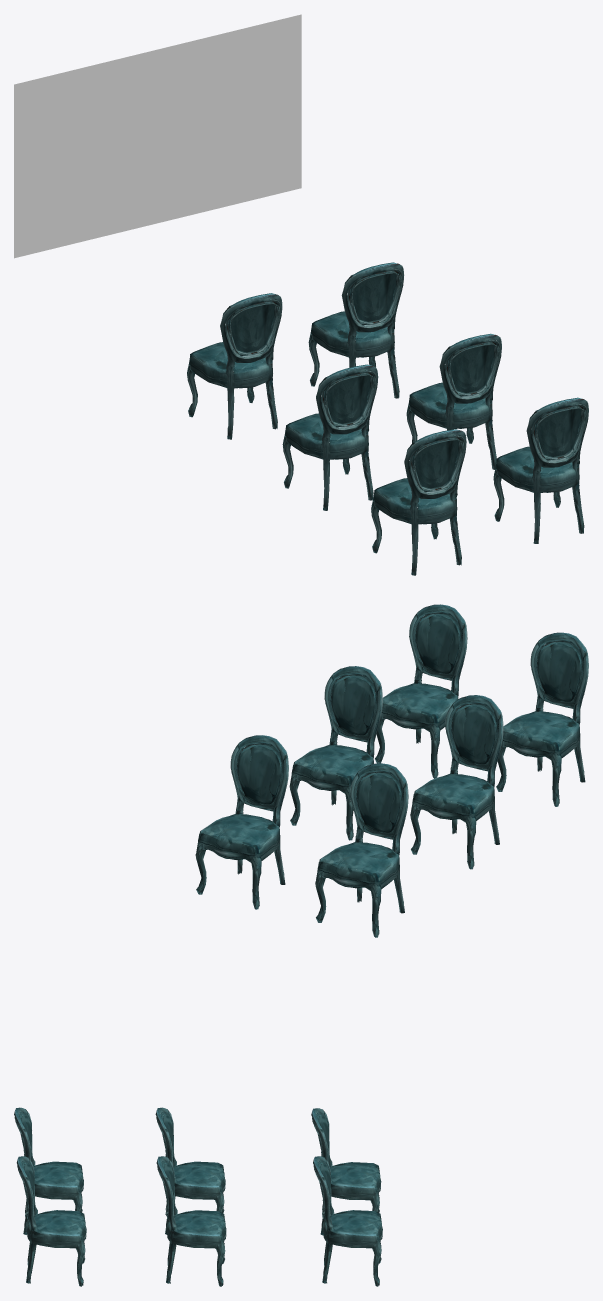
File: teatro.glb
The picture shows the model from 3 angles, top to bottom: view 1: azimuth 30°, elevation 25°; view 2: azimuth 150°, elevation 25°; view 3: azimuth 270°, elevation 25°; orthographic projection. The views are drawn at different scales.
Parts seen in each view (by area): view 1: Plane, silla2, silla1, silla5, silla3, silla6, silla4; view 2: silla6, silla5, silla3, silla2, silla1, silla4; view 3: silla4, silla6, silla1, silla3, silla2, silla5.
Boxes of the visible parts, box(x1,y1,x2,y2) form: Plane: box(14, 14, 301, 258); silla2: box(371, 429, 466, 575); silla1: box(493, 397, 588, 543); silla5: box(187, 293, 282, 439); silla3: box(282, 364, 378, 510); silla6: box(308, 262, 404, 398); silla4: box(406, 333, 501, 469); silla6: box(195, 735, 288, 909); silla5: box(315, 763, 408, 937); silla3: box(410, 695, 503, 869); silla2: box(496, 632, 588, 806); silla1: box(375, 604, 467, 778); silla4: box(289, 666, 382, 840); silla4: box(156, 1156, 226, 1286); silla6: box(313, 1156, 382, 1286); silla1: box(16, 1156, 86, 1286); silla3: box(155, 1107, 225, 1234); silla2: box(14, 1107, 83, 1234); silla5: box(311, 1108, 381, 1235).
Bounding box in the file's own units: 4.04 × 3.31 × 8.71.
Materials: 6 (6 with a texture image).
